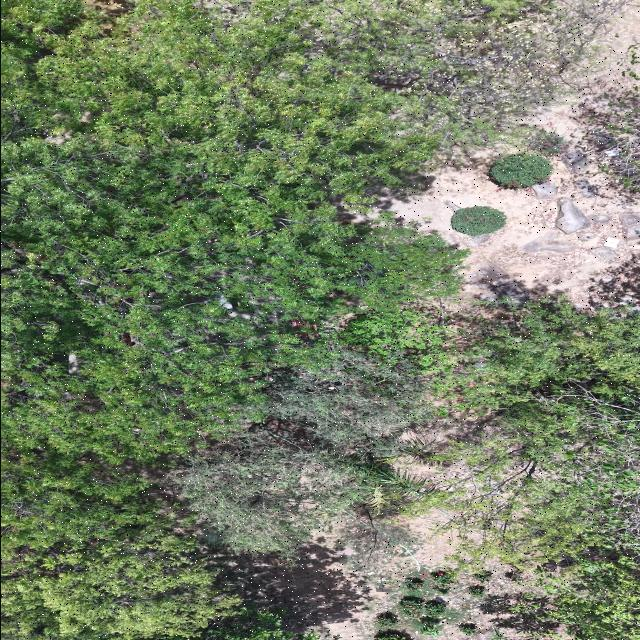DRY_AREA: (391, 150, 639, 312), (392, 150, 639, 310)
VEGETATION_TREE: (1, 0, 639, 639), (1, 0, 461, 634), (345, 301, 639, 561), (174, 326, 429, 551), (427, 303, 639, 561), (308, 0, 622, 148), (172, 423, 367, 554), (3, 530, 239, 638), (501, 382, 636, 553), (266, 317, 430, 445), (395, 566, 567, 637), (510, 555, 639, 639), (580, 86, 639, 197), (332, 503, 422, 573), (377, 570, 457, 636), (199, 611, 319, 639), (489, 153, 552, 189), (399, 570, 455, 599), (451, 206, 505, 235), (398, 597, 446, 619), (525, 132, 566, 157), (427, 570, 454, 594), (435, 606, 468, 625), (397, 597, 425, 619), (409, 618, 440, 636), (400, 577, 424, 597), (375, 612, 398, 629), (375, 630, 408, 639), (504, 569, 523, 584), (467, 585, 486, 598), (472, 570, 491, 583), (420, 625, 439, 637), (458, 623, 476, 635), (489, 629, 505, 639), (433, 587, 448, 595)
